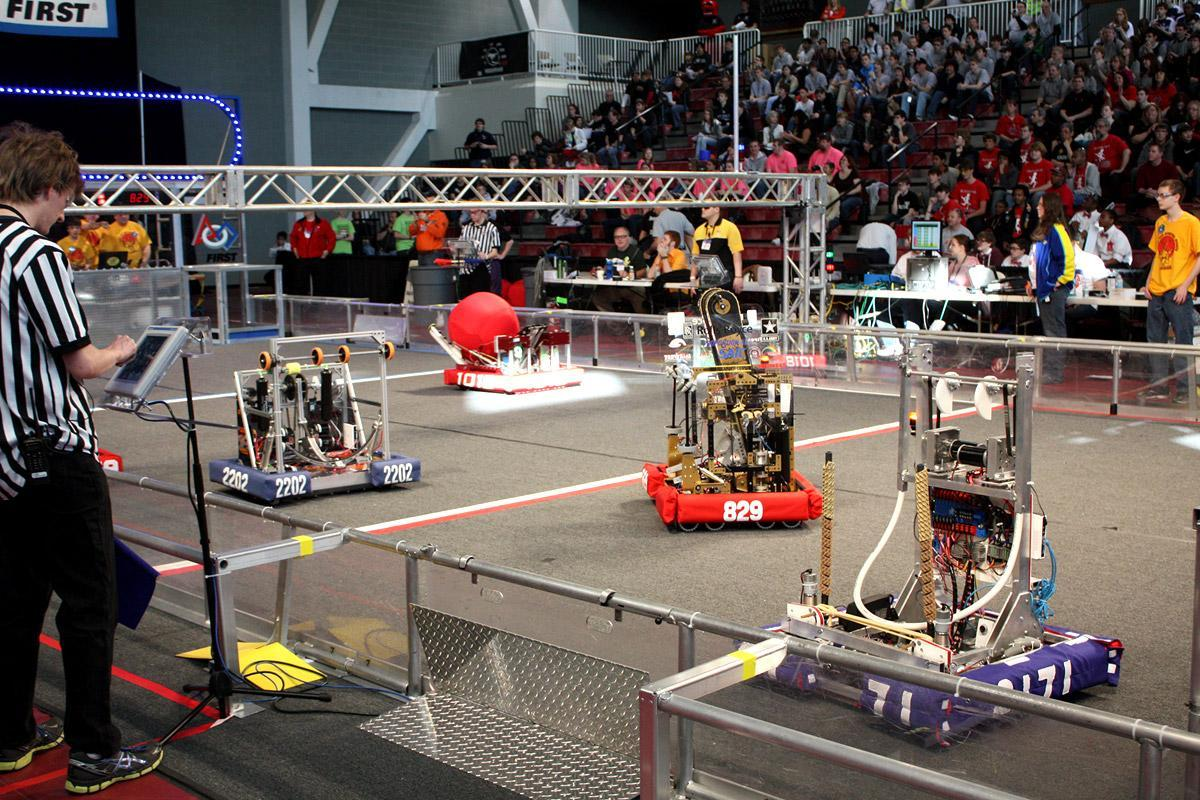robot: (744, 328, 1130, 748), (617, 281, 836, 530), (204, 327, 429, 506), (430, 289, 590, 397)
